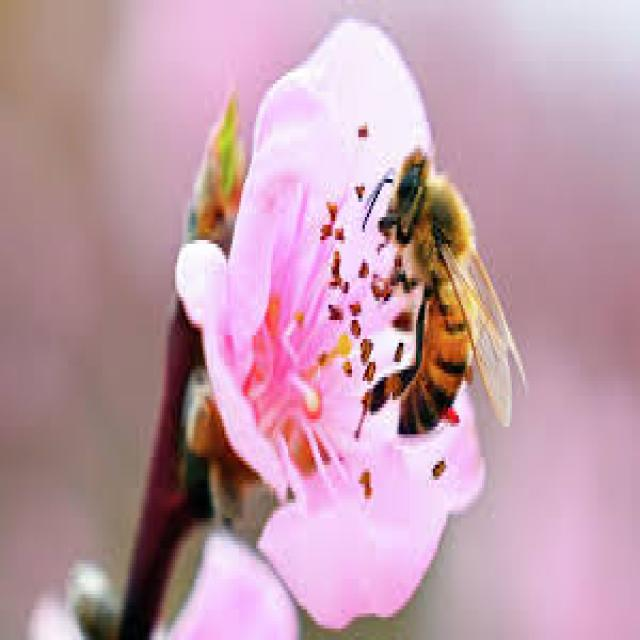Bees: (364, 144, 528, 442)
